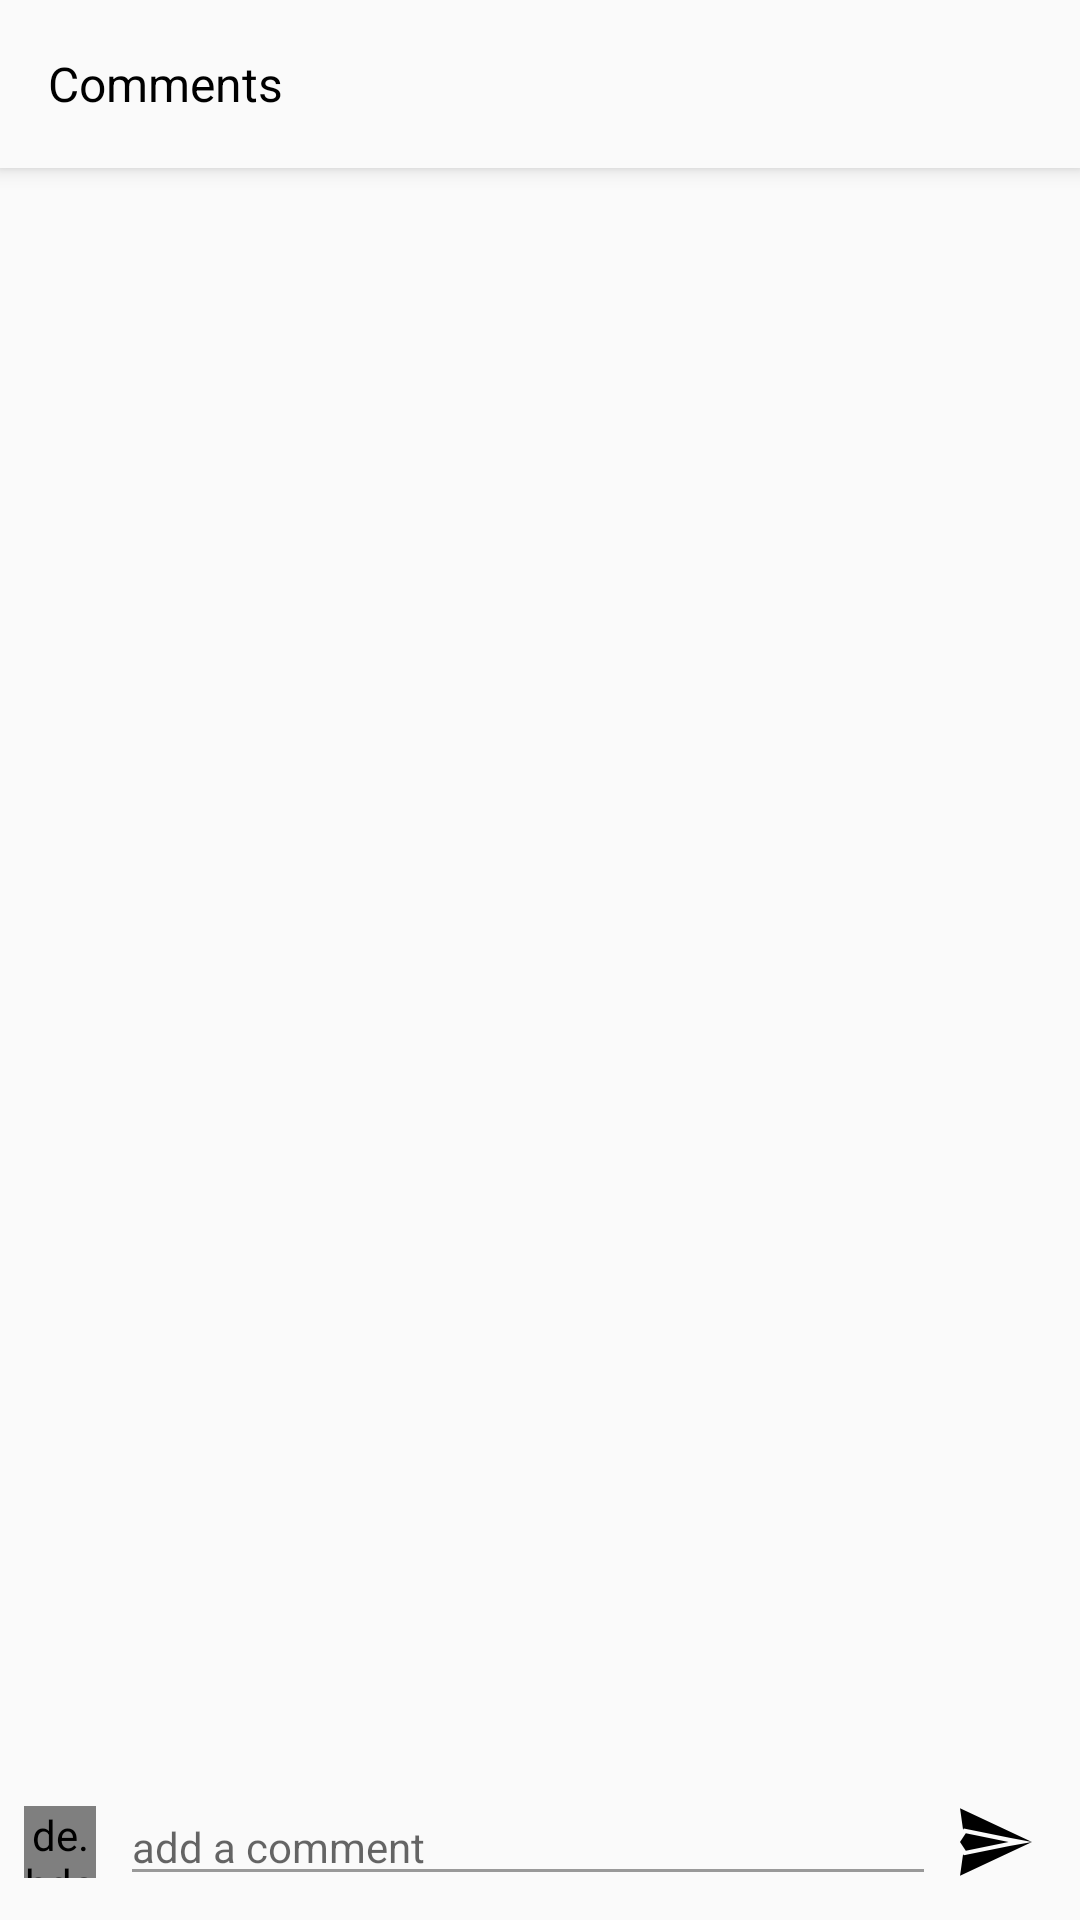

Where icons sit on this 1080×1920 app screen, as [x1=x1, y1=y1, x2=x2, y2=y2]:
sent: [x1=960, y1=1808, x2=1032, y2=1876]
